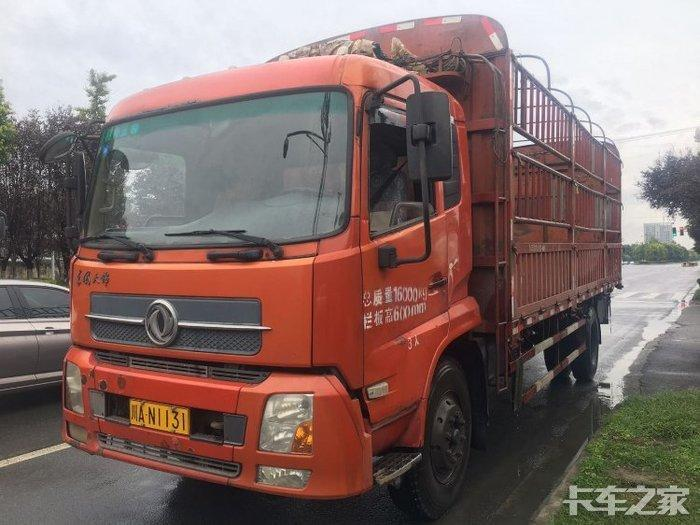truck: (74, 11, 638, 518)
